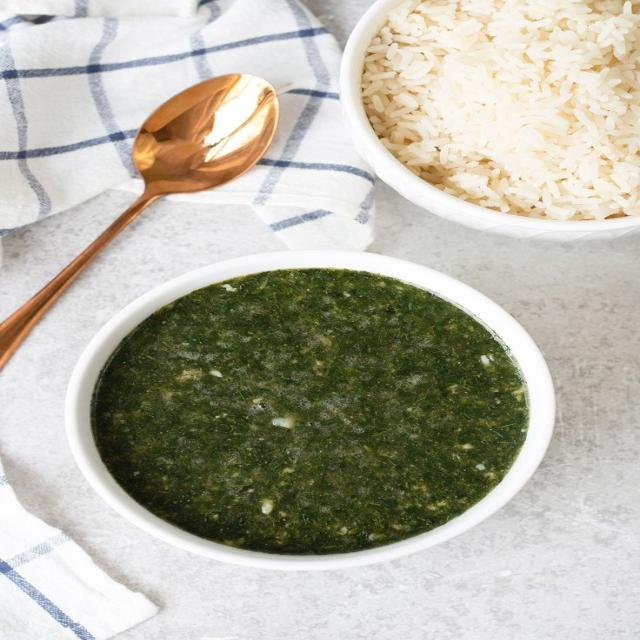Molokhya: (57, 242, 606, 595)
